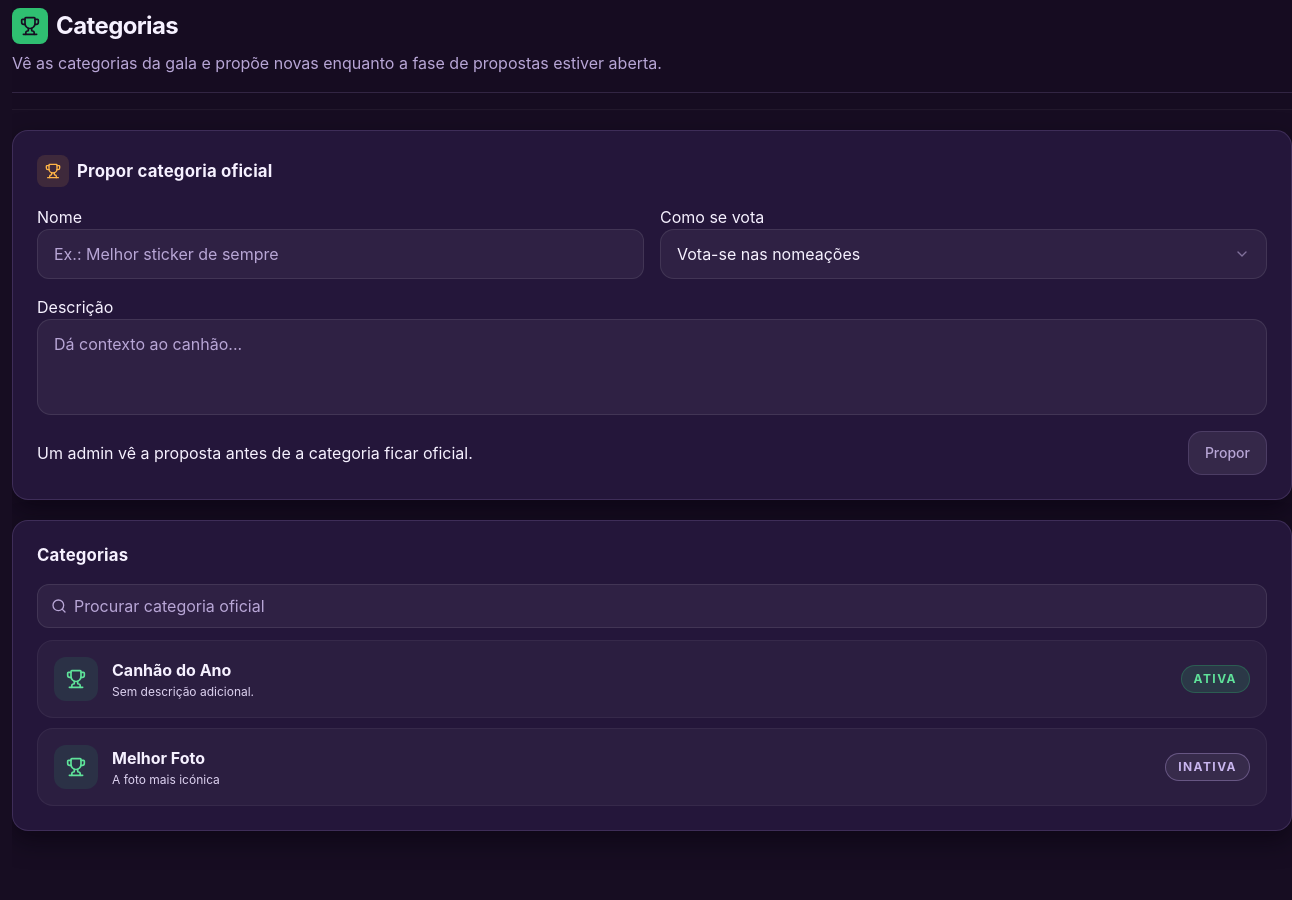
Test case: CanhoesCategoriesModule › filters by name or description
Type "ICÓNICA" into the field with placeholder "Procurar categoria oficial" at coordinates (652, 606), box [37,584,1267,628]
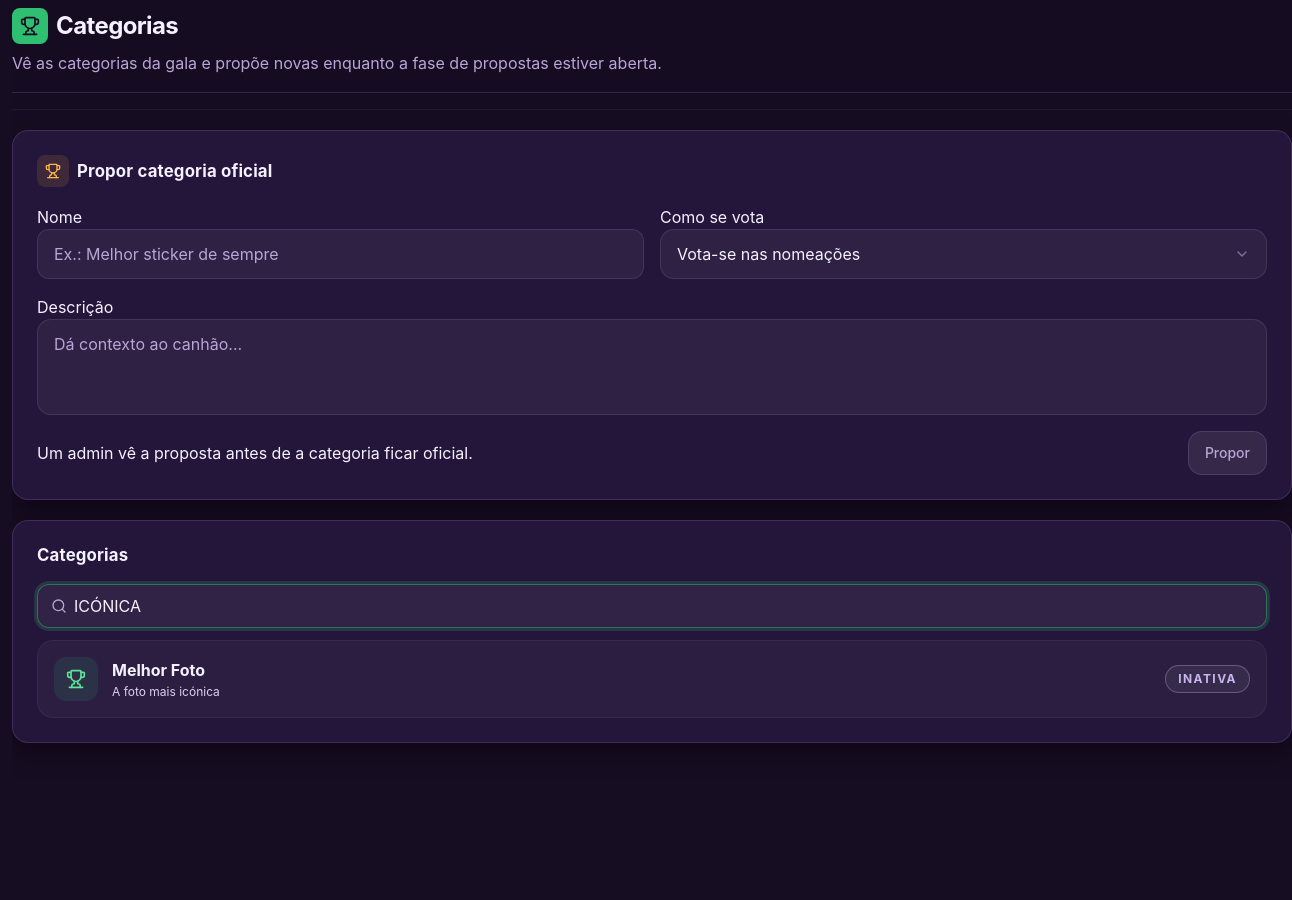
Expected: the text "Melhor Foto" is shown, [112,660,205,680]
Expected: the text "Canhão do Ano" is gone
